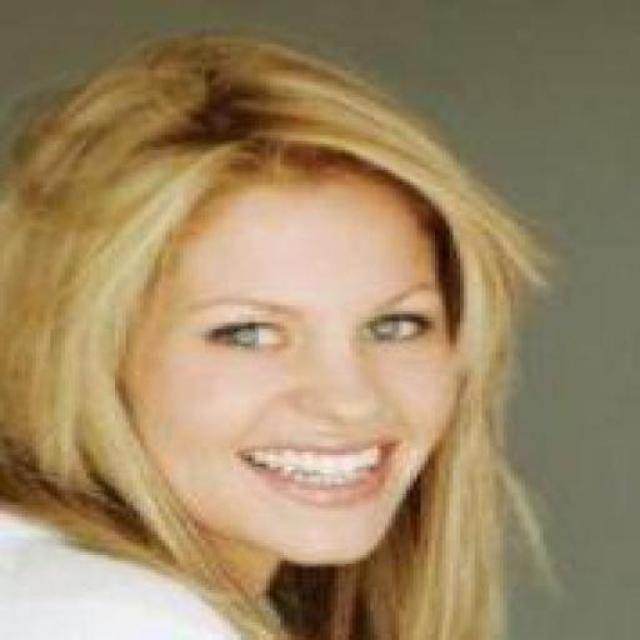bareface: (39, 46, 450, 553)
